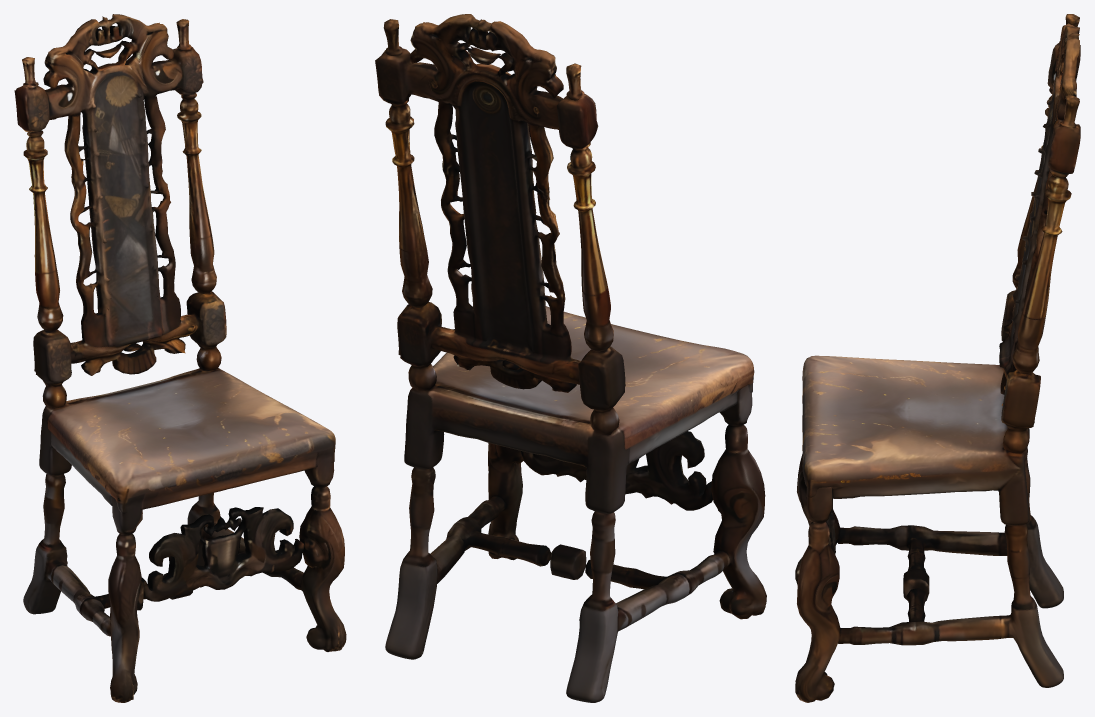
The picture shows the model from 3 angles, left to right: view 1: azimuth 30°, elevation 25°; view 2: azimuth 150°, elevation 25°; view 3: azimuth 270°, elevation 25°; orthographic projection. The views are drawn at different scales.
Visible parts, largest first — view 1: root.1, root.0, root.2, root.5, root.6, root.4, root.7, root.8, root.3; view 2: root.1, root.0, root.4, root.3, root.6, root.2, root.8, root.7, root.5, root.9; view 3: root.0, root.1, root.3, root.5, root.4, root.8, root.7, root.6, root.9.
Part boxes in pixels (box(x1,y1,x2,y2)): root.1: box(14, 14, 226, 408); root.0: box(39, 368, 335, 513); root.2: box(141, 507, 304, 601); root.5: box(299, 456, 346, 651); root.6: box(108, 496, 144, 702); root.4: box(23, 474, 148, 636); root.7: box(22, 57, 63, 331); root.8: box(176, 19, 216, 293); root.3: box(187, 493, 303, 590); root.1: box(375, 14, 625, 435); root.0: box(404, 306, 754, 513); root.4: box(566, 511, 730, 702); root.3: box(385, 467, 551, 659); root.6: box(711, 385, 766, 619); root.2: box(521, 431, 712, 510); root.8: box(383, 19, 432, 307); root.7: box(566, 63, 613, 352); root.5: box(488, 443, 523, 560); root.9: box(550, 544, 586, 579); root.0: box(802, 355, 1029, 525); root.1: box(999, 23, 1080, 453); root.3: box(838, 524, 1063, 687); root.5: box(795, 487, 840, 702); root.4: box(837, 447, 1063, 608); root.8: box(1012, 95, 1079, 374); root.7: box(1012, 14, 1079, 288); root.6: box(795, 454, 840, 584); root.9: box(903, 569, 929, 600).
Bounding box in the file's own units: 0.5526 × 1.27 × 0.5399.
10 materials, 10 textured.
